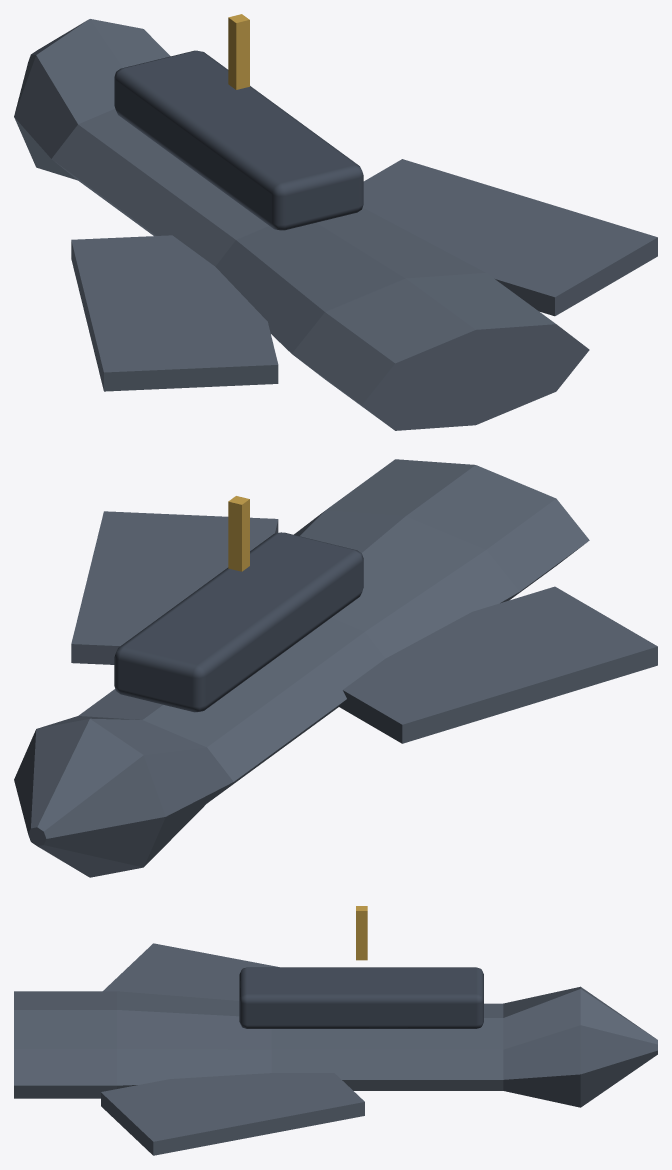
The model's file is capitania_vitrine.glb.
The picture shows the model from 3 angles, top to bottom: view 1: azimuth 30°, elevation 25°; view 2: azimuth 150°, elevation 25°; view 3: azimuth 270°, elevation 25°; orthographic projection. The views are drawn at different scales.
Visible parts, largest first — view 1: HullBody, PortWing, BridgeTower, capitania.asa.boreste, HullBow, FlagMast; view 2: HullBody, PortWing, HullBow, BridgeTower, capitania.asa.boreste, FlagMast; view 3: HullBody, BridgeTower, capitania.asa.boreste, HullBow, PortWing, FlagMast.
Part boxes in pixels (left/top/right/bottom): HullBody: left=52, top=109, right=589, bottom=430; PortWing: left=71, top=235, right=278, bottom=391; BridgeTower: left=114, top=50, right=363, bottom=230; capitania.asa.boreste: left=363, top=159, right=657, bottom=316; HullBow: left=14, top=19, right=170, bottom=180; FlagMast: left=228, top=14, right=249, bottom=89; HullBody: left=78, top=459, right=589, bottom=802; PortWing: left=338, top=586, right=657, bottom=743; HullBow: left=14, top=716, right=233, bottom=877; BridgeTower: left=114, top=532, right=363, bottom=712; capitania.asa.boreste: left=71, top=511, right=278, bottom=664; FlagMast: left=228, top=496, right=249, bottom=571; HullBody: left=14, top=991, right=503, bottom=1098; BridgeTower: left=239, top=967, right=483, bottom=1028; capitania.asa.boreste: left=101, top=1073, right=364, bottom=1155; HullBow: left=503, top=986, right=657, bottom=1107; PortWing: left=103, top=943, right=279, bottom=1000; FlagMast: left=356, top=906, right=367, bottom=960.
Bounding box in the file's own units: 3.65 × 1.69 × 5.
